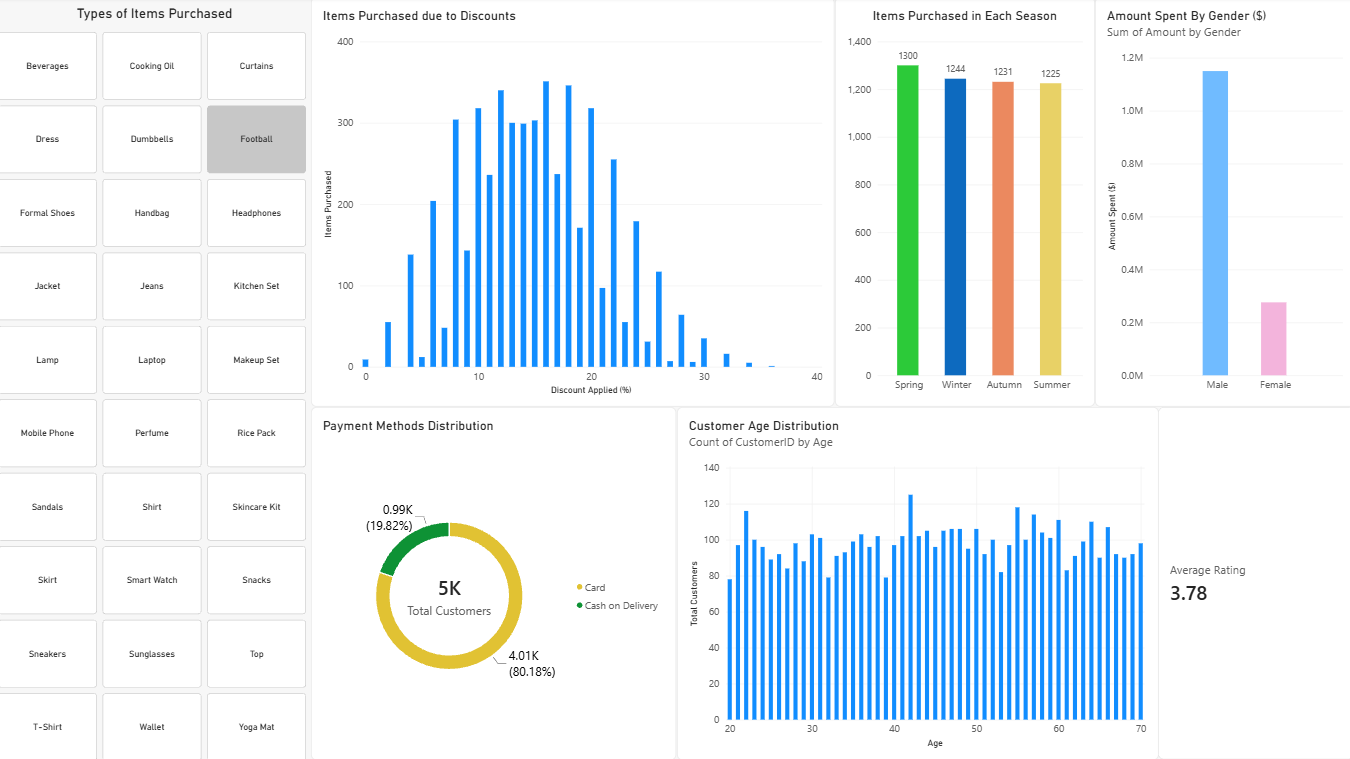

The page's visual inventory and layout, read from the dashboard file:
{"tool":"powerbi","page":{"name":"Page 1","canvas":[1920,1080],"ordinal":0},"visuals":[{"type":"columnChart","title":"Items Purchased due to Discounts","fields":{"Category":["store_sales_data.DiscountApplied(%)"],"Y":["CountNonNull(store_sales_data.ItemPurchased)"]},"box":[443.3,0,741,580.5],"z":0},{"type":"donutChart","title":"Payment Methods Distribution","fields":{"Category":["store_sales_data.PaymentMethod"],"Y":["CountNonNull(store_sales_data.CustomerID)"]},"box":[443.3,580.5,517.4,499.5],"z":1000},{"type":"clusteredColumnChart","title":"Customer Age Distribution","fields":{"Category":["store_sales_data.Age"],"Y":["CountNonNull(store_sales_data.CustomerID)"]},"box":[960.6,580.5,682,499.5],"z":2000},{"type":"clusteredColumnChart","title":"Items Purchased in Each Season","fields":{"Category":["store_sales_data.Season"],"Y":["CountNonNull(store_sales_data.ItemPurchased)"]},"box":[1184.3,0,367.8,580.5],"z":3000},{"type":"clusteredColumnChart","title":"Amount Spent By Gender ($)","fields":{"Category":["store_sales_data.Gender"],"Y":["Sum(store_sales_data.Amount)"]},"box":[1552.1,0,367.8,580.5],"z":4000},{"type":"advancedSlicerVisual","title":"Types of Items Purchased","fields":{"Values":["store_sales_data.ItemPurchased"]},"box":[0,11,443.3,1069],"z":5000},{"type":"cardVisual","title":"Average Ra","fields":{"Data":["Avg(store_sales_data.ItemRating)"]},"box":[1642.6,580.5,277.2,499.5],"z":6000}]}

Visuals, with their boxes in screenshot pixels (x1, y1, x2, y2), scaled from the page's 1920x1080 canvas onto the 1350x759 screenshot:
"Items Purchased due to Discounts" columnChart: (x1=312, y1=0, x2=833, y2=408)
"Payment Methods Distribution" donutChart: (x1=312, y1=408, x2=675, y2=758)
"Customer Age Distribution" clusteredColumnChart: (x1=675, y1=408, x2=1155, y2=758)
"Items Purchased in Each Season" clusteredColumnChart: (x1=833, y1=0, x2=1091, y2=408)
"Amount Spent By Gender ($)" clusteredColumnChart: (x1=1091, y1=0, x2=1349, y2=408)
"Types of Items Purchased" advancedSlicerVisual: (x1=0, y1=8, x2=312, y2=758)
"Average Ra" cardVisual: (x1=1155, y1=408, x2=1349, y2=758)
